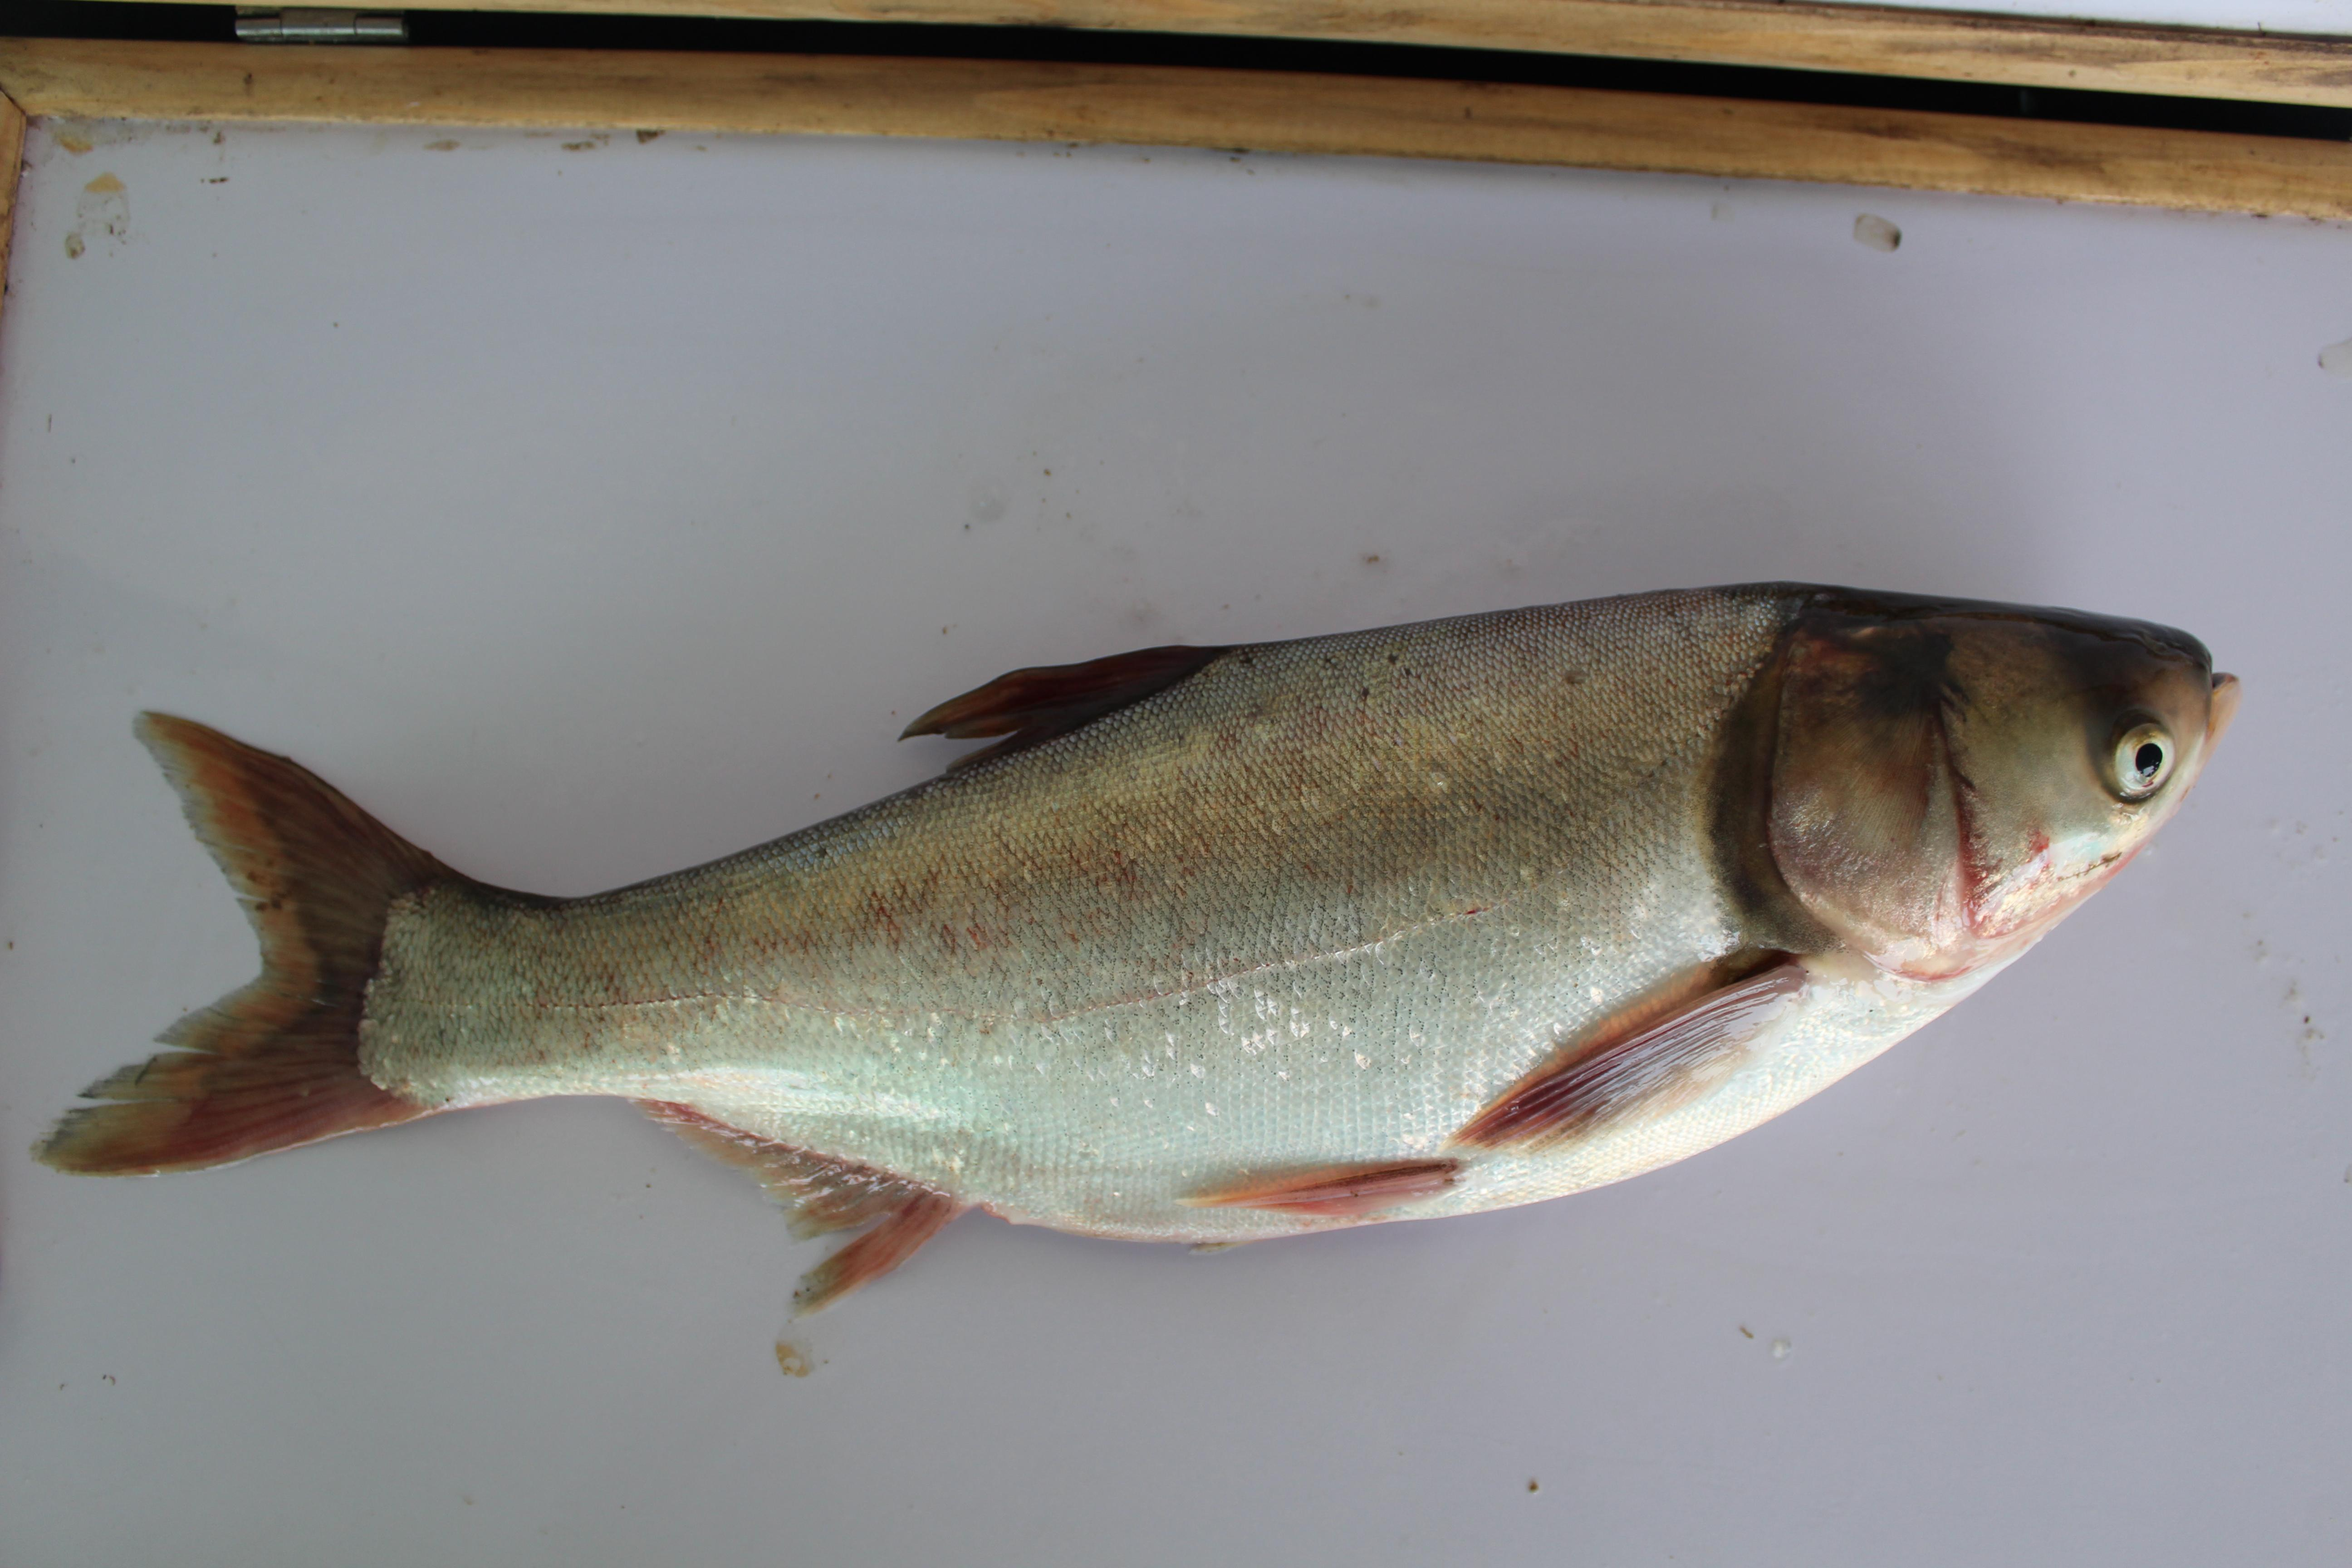Silver Carp: (33, 562, 2233, 1279)
